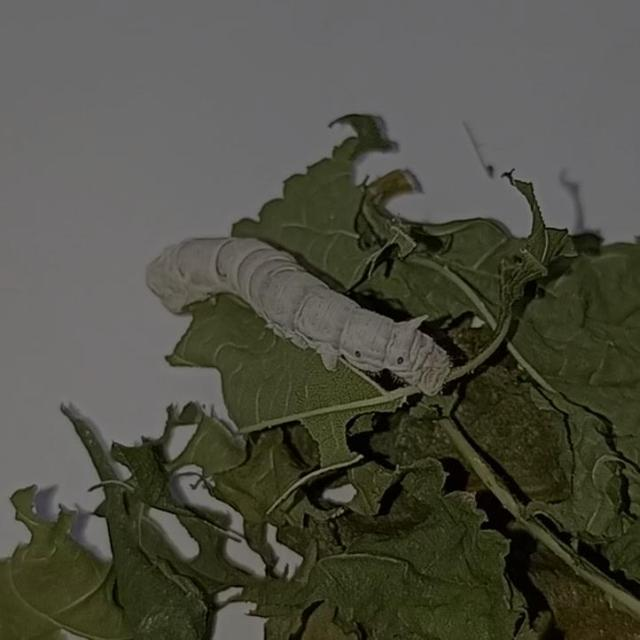Healthy: (128, 192, 478, 432)
